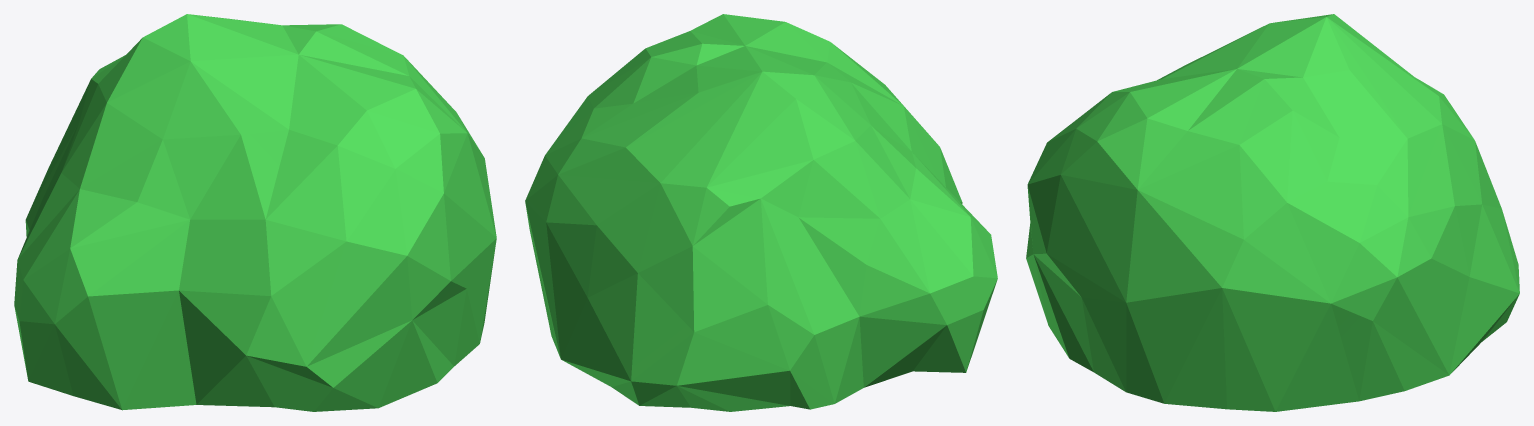
File: Bush.fbx
The picture shows the model from 3 angles, left to right: view 1: azimuth 30°, elevation 25°; view 2: azimuth 150°, elevation 25°; view 3: azimuth 270°, elevation 25°; orthographic projection. The views are drawn at different scales.
Visible parts, largest first — view 1: Bush; view 2: Bush; view 3: Bush.
Boxes of the visible parts, x1,y1,x2,y2 form: Bush: (14,14,496,411); Bush: (525,14,997,411); Bush: (1026,14,1519,411).
Size of the model in its own units: 100 by 64.18 by 100.
